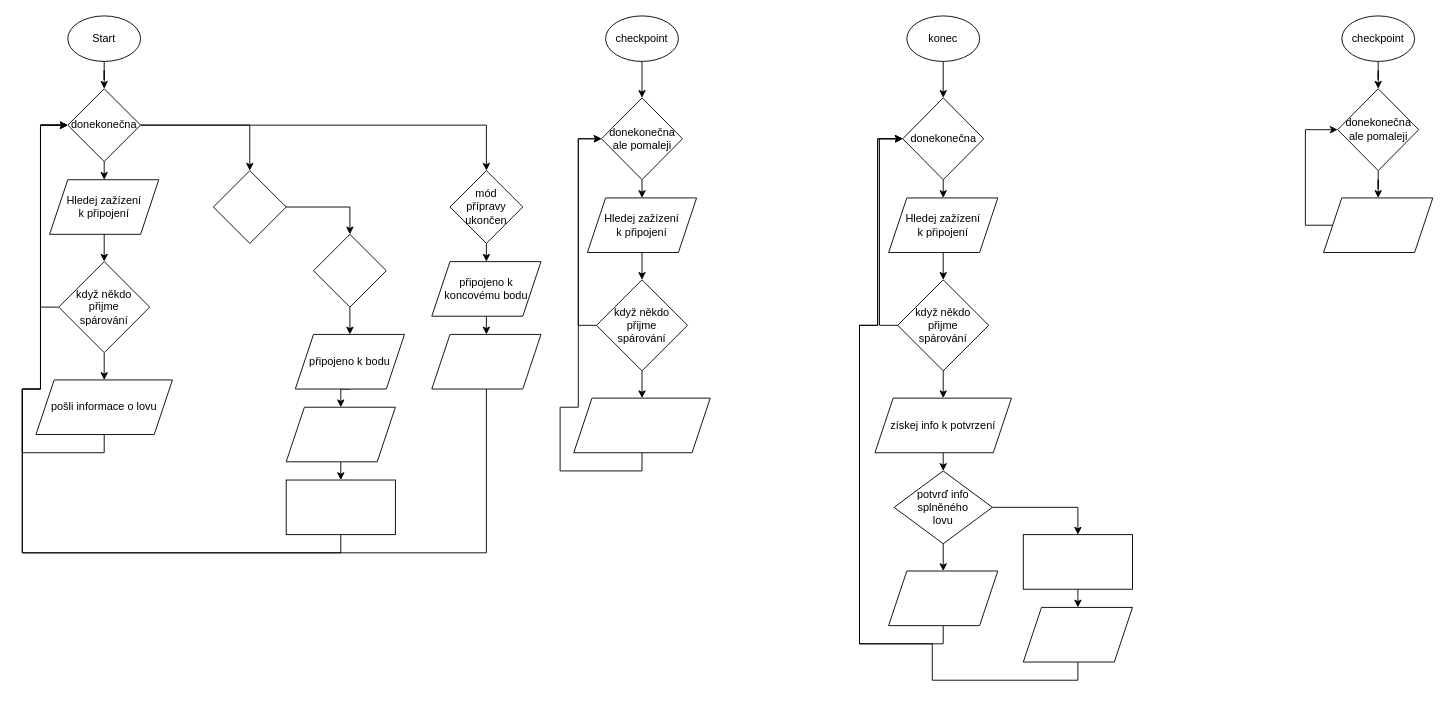
Some shapes in this 1449 by 703 pixel diagram are drawn without their labels. Each missing label, with the box of its shape:
hodnoty zapsány: (285, 479, 395, 535)
otevři dvířka s odměnou: (1022, 534, 1132, 589)
potřebné hodnoty odeslány na koncový bod: (431, 334, 541, 389)
pošli info k potvrzení checkpointu: (573, 397, 710, 453)
pošli info o splnění lovu: (1022, 607, 1132, 662)
pošli že lov není splněn: (888, 570, 998, 626)
vysílej svůj id + validační hash: (1323, 197, 1433, 253)
zapnut mód přípravy lovu: (212, 170, 286, 243)
zmáčknuto tlačítko přidání bodu: (313, 233, 386, 307)
získána gps lokace: (285, 406, 395, 462)
